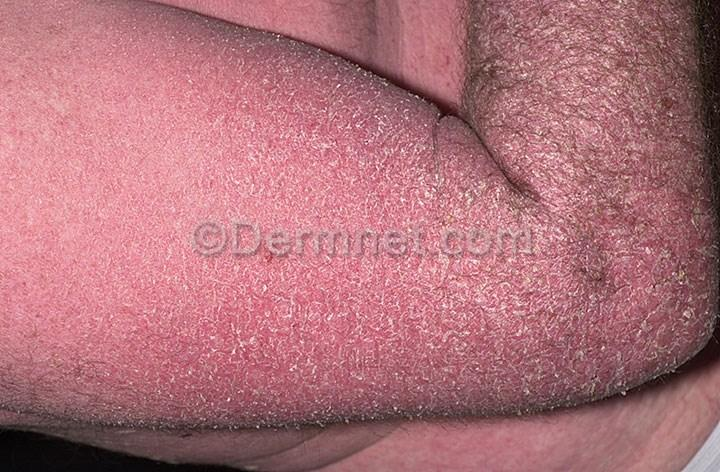Eczema: (166, 288, 266, 426), (164, 172, 270, 275), (218, 70, 315, 170), (336, 302, 415, 420), (275, 124, 377, 214), (268, 203, 347, 308), (419, 296, 488, 410), (465, 180, 542, 278), (493, 294, 555, 415), (83, 322, 155, 425), (647, 148, 719, 246), (5, 248, 83, 337), (1, 30, 99, 100), (639, 67, 720, 150), (73, 80, 172, 147), (269, 324, 334, 426), (418, 186, 483, 286), (567, 282, 624, 395), (111, 18, 220, 77), (597, 211, 676, 290), (351, 196, 413, 296), (0, 104, 77, 184), (78, 148, 155, 227), (0, 340, 83, 413), (161, 99, 237, 178), (633, 292, 696, 387), (89, 222, 157, 310), (475, 96, 545, 174), (389, 104, 458, 183), (538, 141, 606, 221), (521, 3, 604, 68), (0, 176, 79, 244), (545, 60, 608, 138), (302, 66, 383, 126), (220, 36, 317, 85), (607, 111, 655, 210), (465, 32, 536, 94), (644, 1, 711, 64), (605, 18, 650, 111), (542, 222, 598, 282), (682, 242, 720, 328), (9, 0, 117, 27), (469, 2, 521, 34)
